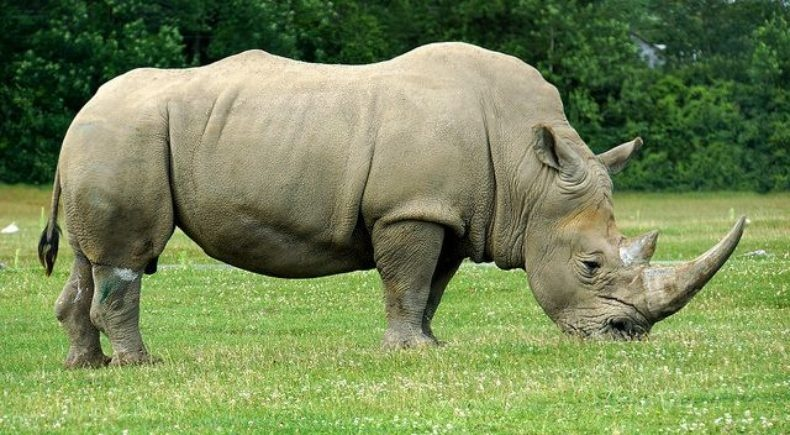rhino: (38, 39, 745, 369)
